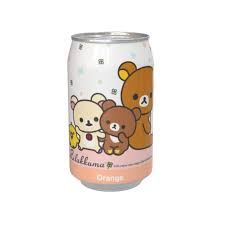can: (66, 32, 155, 192)
